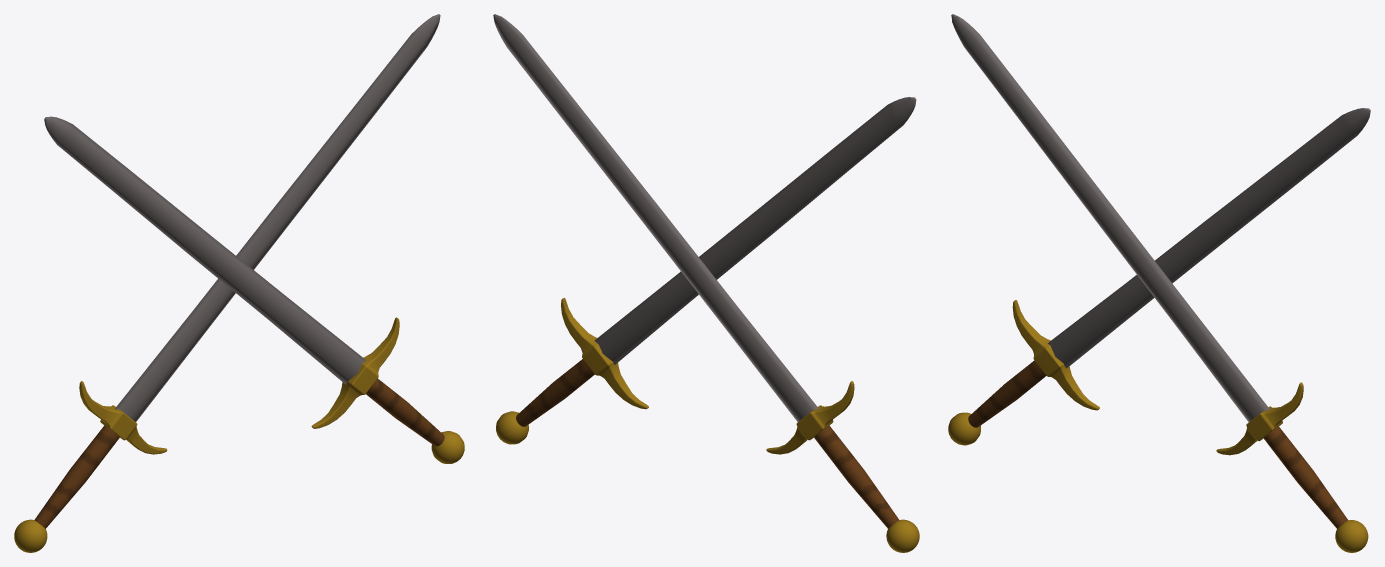
File: Perk_Dmg.obj
3 renders of one model, left to right at view 1: azimuth 30°, elevation 25°; view 2: azimuth 150°, elevation 25°; view 3: azimuth 330°, elevation 25°, orthographic.
Visible parts, largest first — view 1: SwordPerk; view 2: SwordPerk; view 3: SwordPerk.
Part boxes in pixels (bbox=[...]): SwordPerk: bbox=[14, 14, 464, 552]; SwordPerk: bbox=[493, 14, 919, 552]; SwordPerk: bbox=[948, 14, 1370, 552].
Bounding box in the file's own units: 1.83 × 1.79 × 0.2192.
